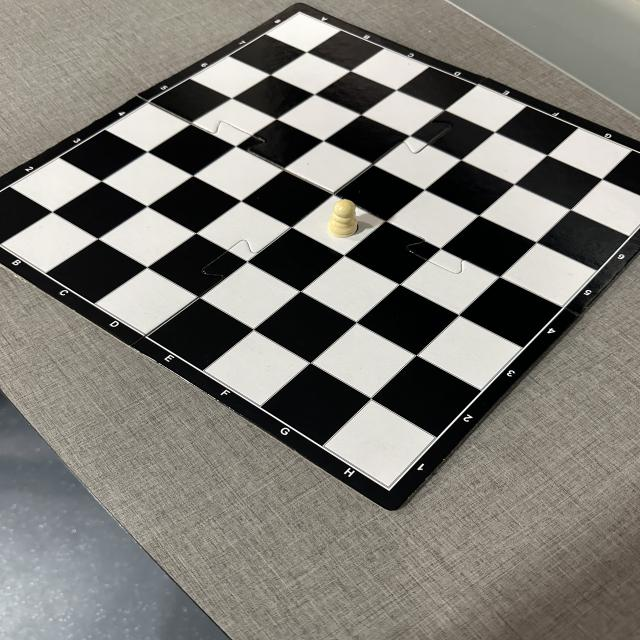White-Pawn: (328, 198, 357, 237)
